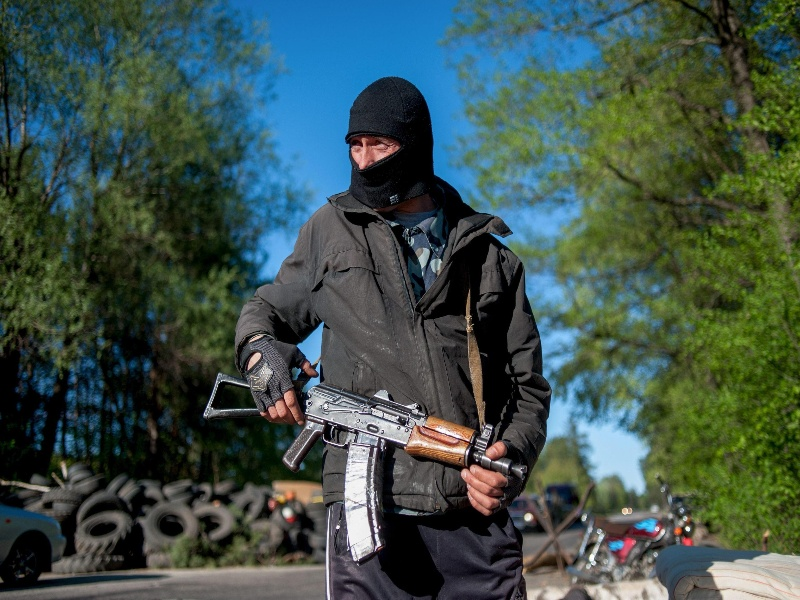car: (1, 505, 67, 588)
person: (234, 76, 552, 600)
weapon: (203, 373, 529, 565)
